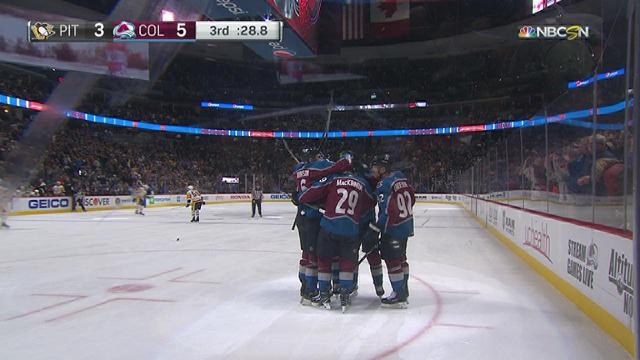geico: (27, 195, 72, 213)
